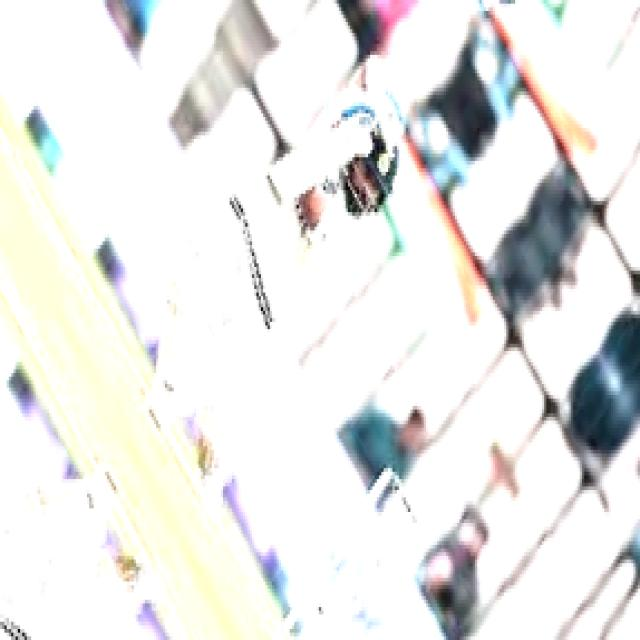toe: (263, 168, 294, 212)
